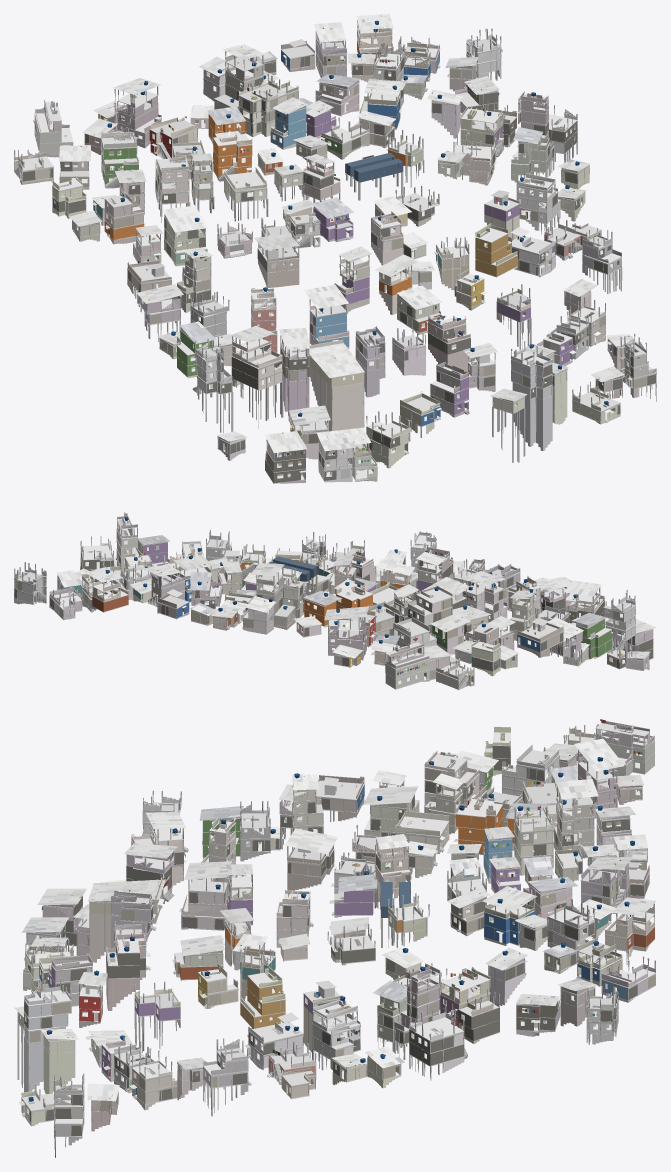
The picture shows the model from 3 angles, top to bottom: view 1: azimuth 30°, elevation 25°; view 2: azimuth 150°, elevation 25°; view 3: azimuth 270°, elevation 25°; orthographic projection. The views are drawn at different scales.
Visible parts, largest first — view 1: T_26_26; view 2: T_26_26; view 3: T_26_26.
Part boxes in pixels (left/top/right/bottom): T_26_26: left=14, top=14, right=656, bottom=483; T_26_26: left=14, top=512, right=656, bottom=690; T_26_26: left=14, top=719, right=656, bottom=1157.
Bounding box in the file's own units: 136 × 64.16 × 133.
